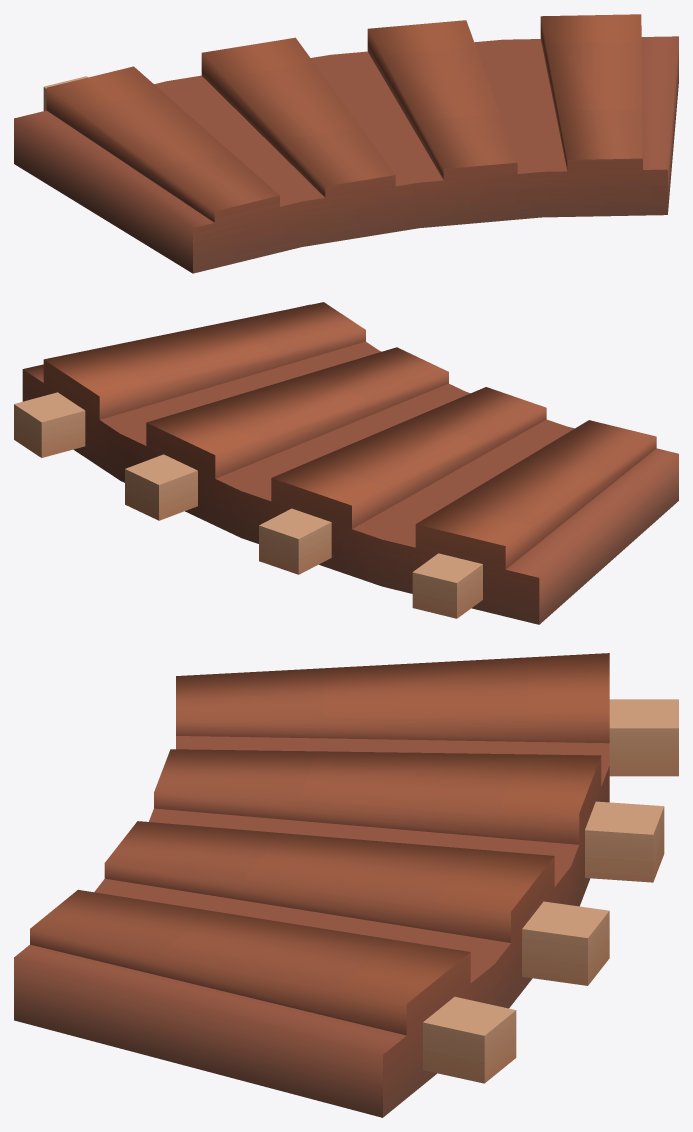
File: meat-ribs.glb
The picture shows the model from 3 angles, top to bottom: view 1: azimuth 30°, elevation 25°; view 2: azimuth 150°, elevation 25°; view 3: azimuth 270°, elevation 25°; orthographic projection. The views are drawn at different scales.
Visible parts, largest first — view 1: meat-ribs; view 2: meat-ribs; view 3: meat-ribs.
Boxes of the visible parts, <box> form: meat-ribs: <box>14,14,678,273</box>; meat-ribs: <box>14,302,678,624</box>; meat-ribs: <box>14,653,678,1117</box>.
Size of the model in its own units: 0.5354 by 0.06 by 0.3834.
Materials: 1 (1 with a texture image).
